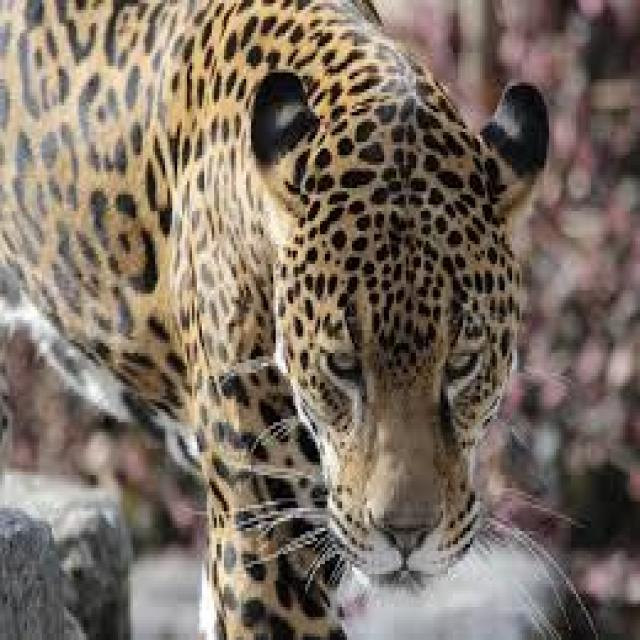Jaguar: (2, 0, 552, 640)
